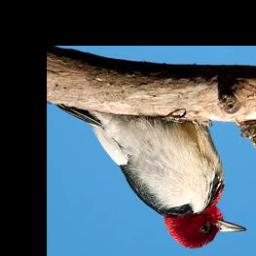Woodpecker: (55, 105, 247, 249)
